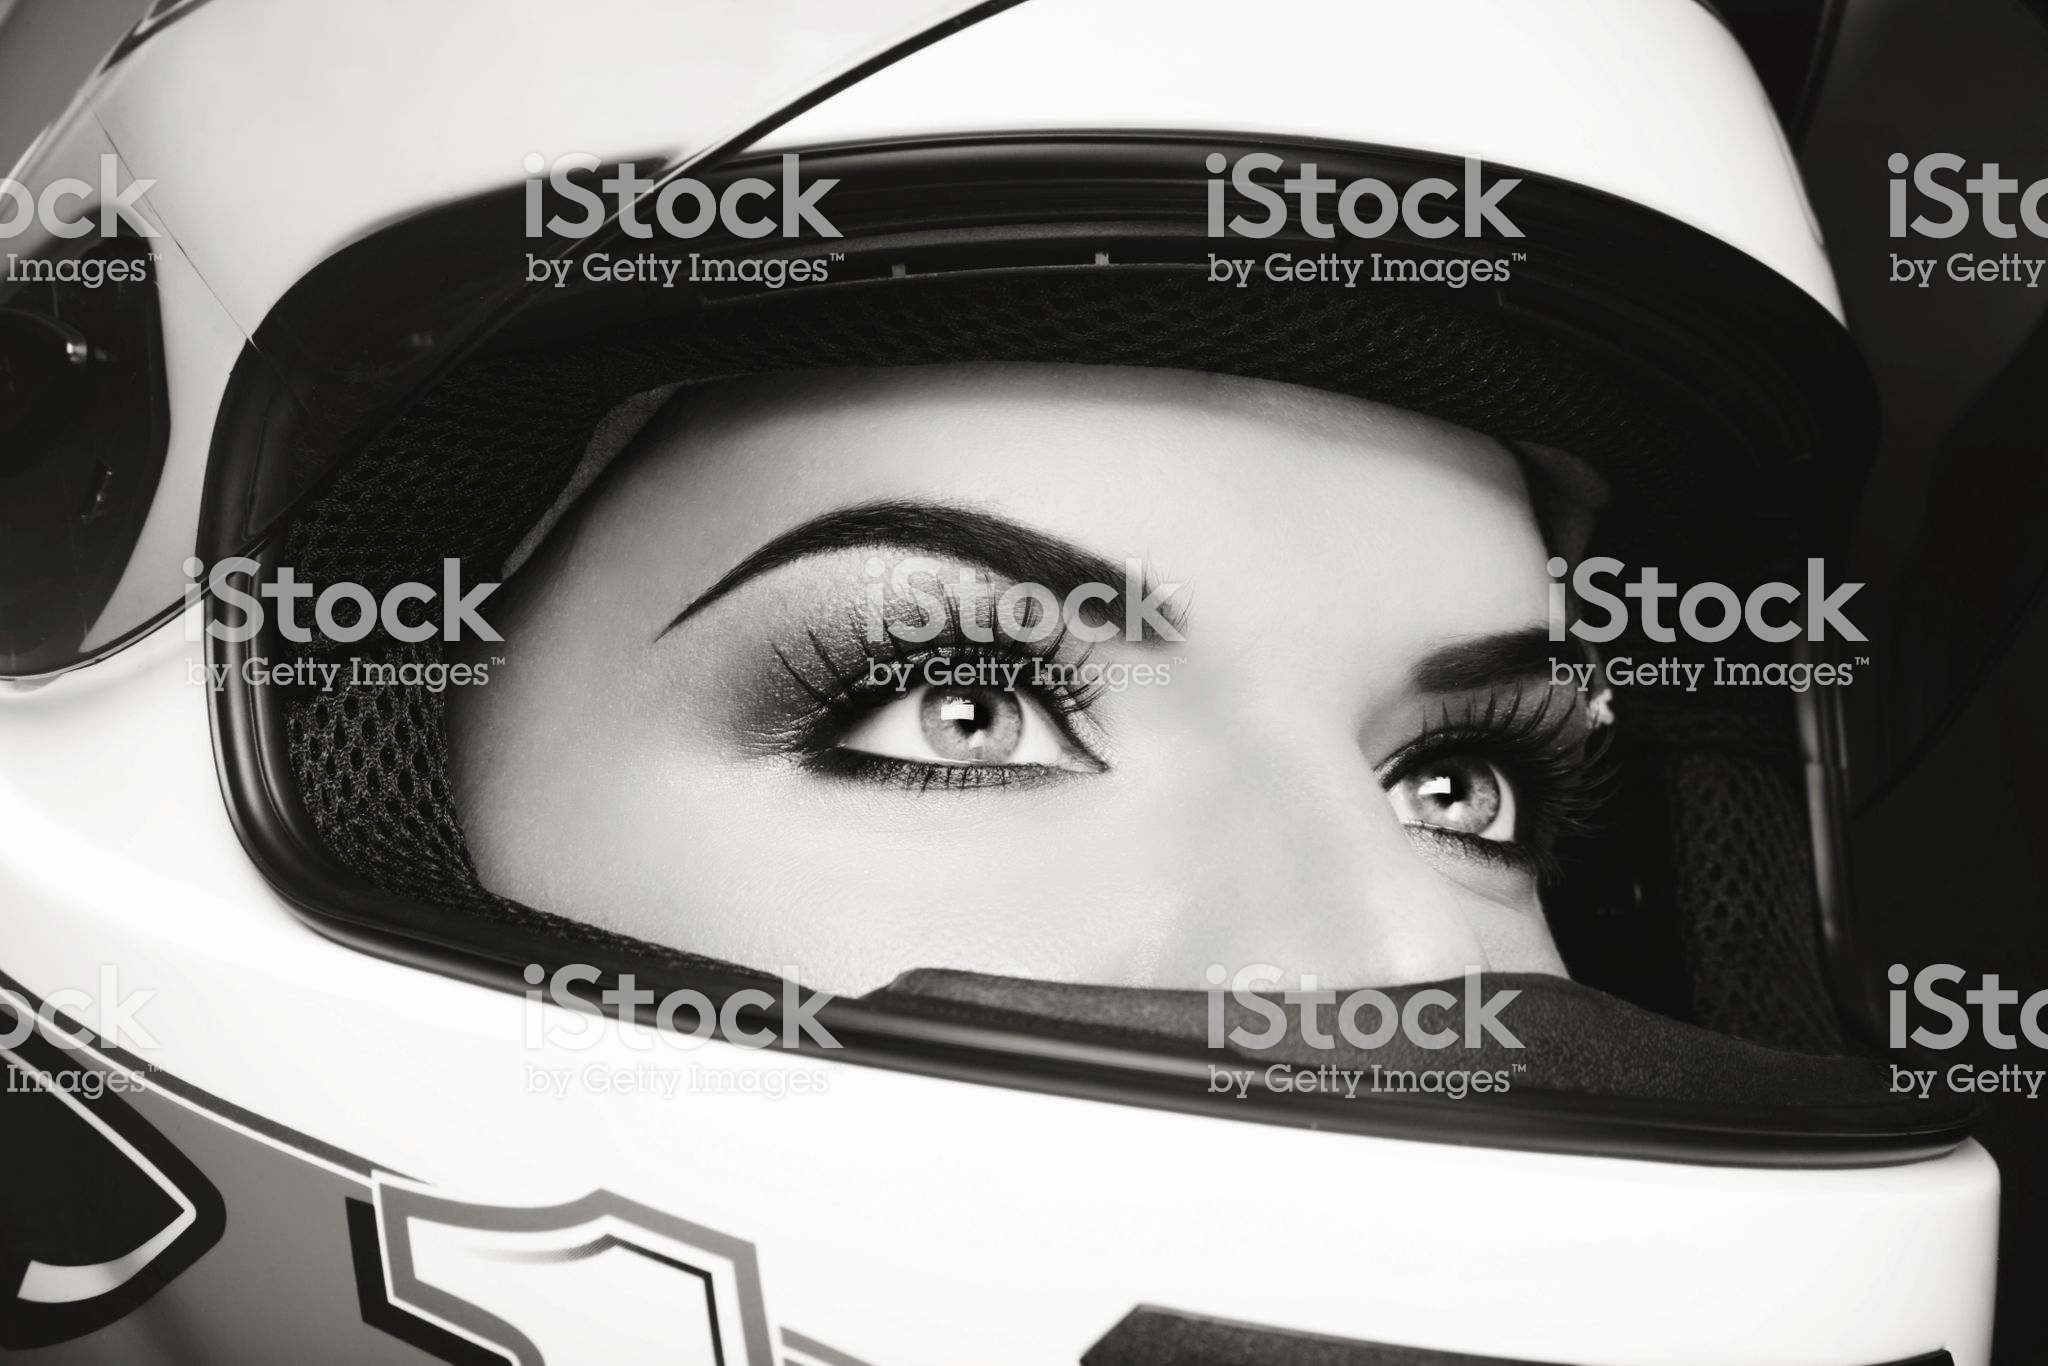helmet: (61, 27, 1981, 1366)
